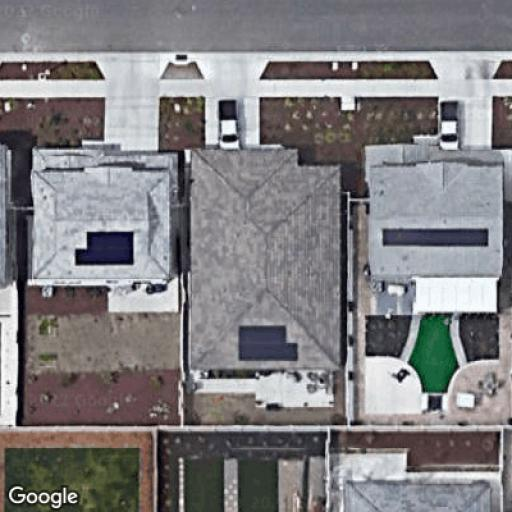solar-panel: (236, 322, 300, 364), (381, 226, 490, 249), (73, 229, 136, 268)
